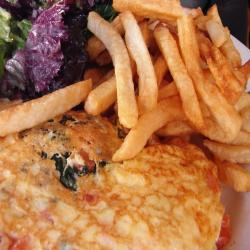fries: (96, 6, 247, 145)
omelette: (1, 109, 222, 249)
salad: (3, 3, 81, 85)
